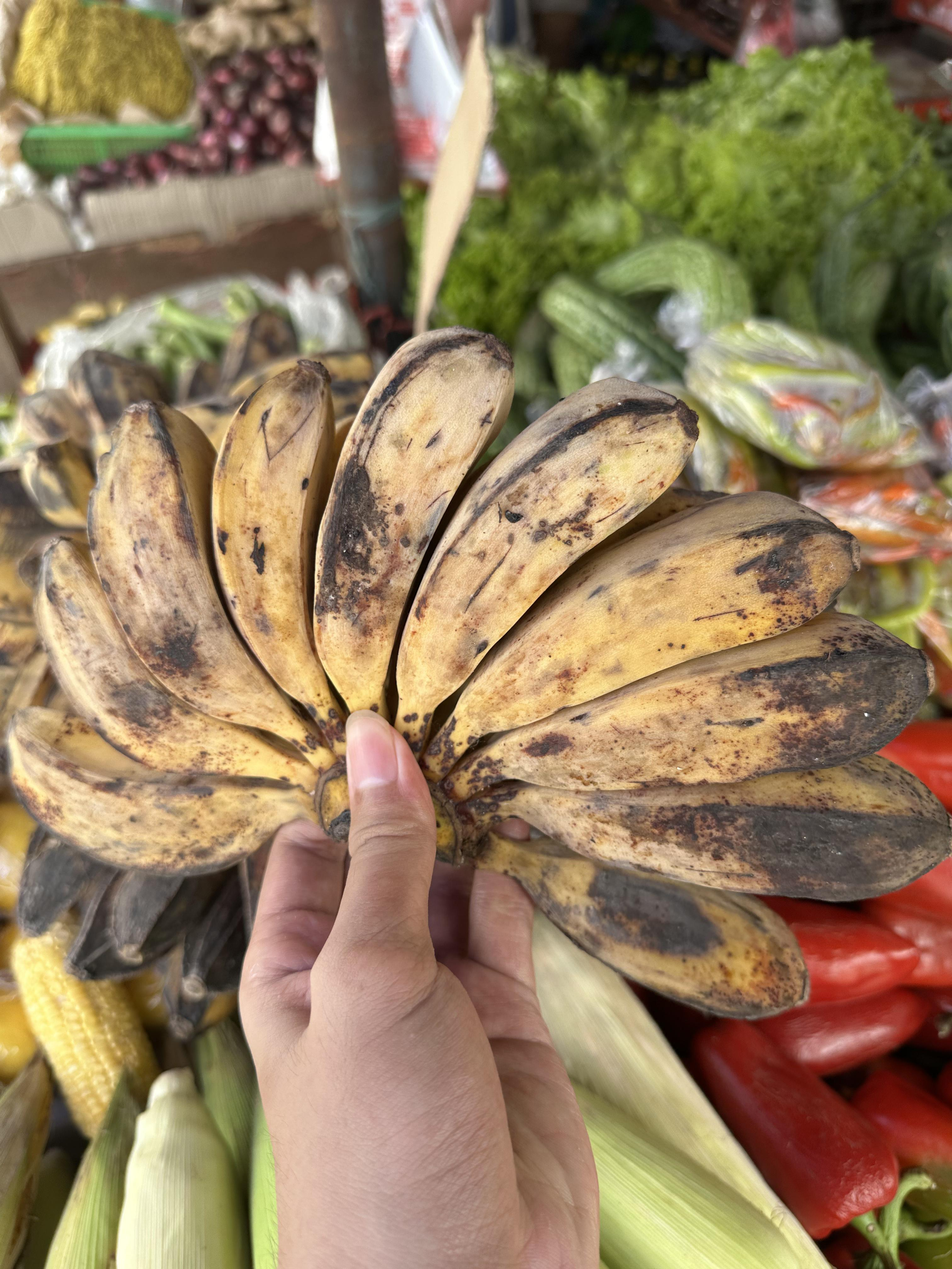overripe: (20, 828, 274, 1035)
ripe: (0, 324, 950, 1021)
